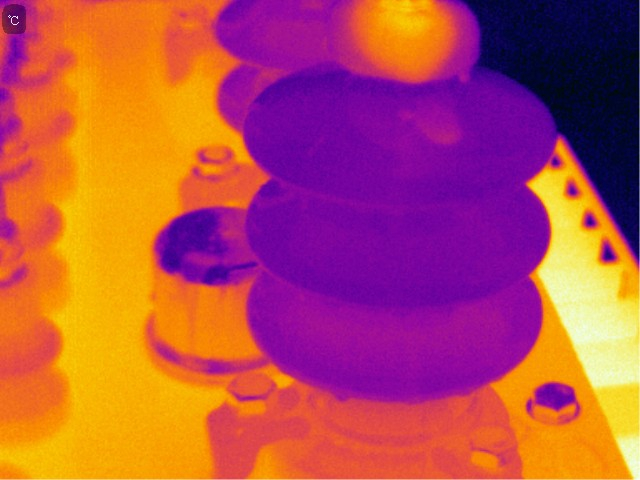Oil: (341, 1, 476, 89), (400, 101, 468, 147), (332, 384, 353, 405)
